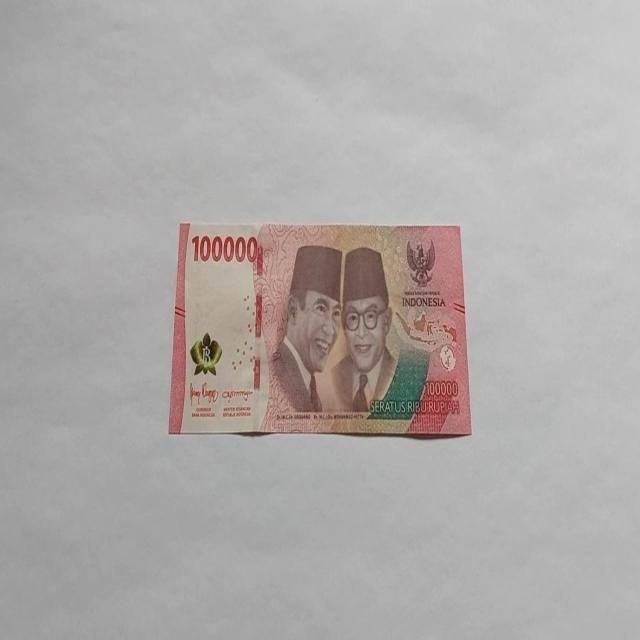Kertas: (168, 220, 472, 438), (190, 231, 258, 265)
